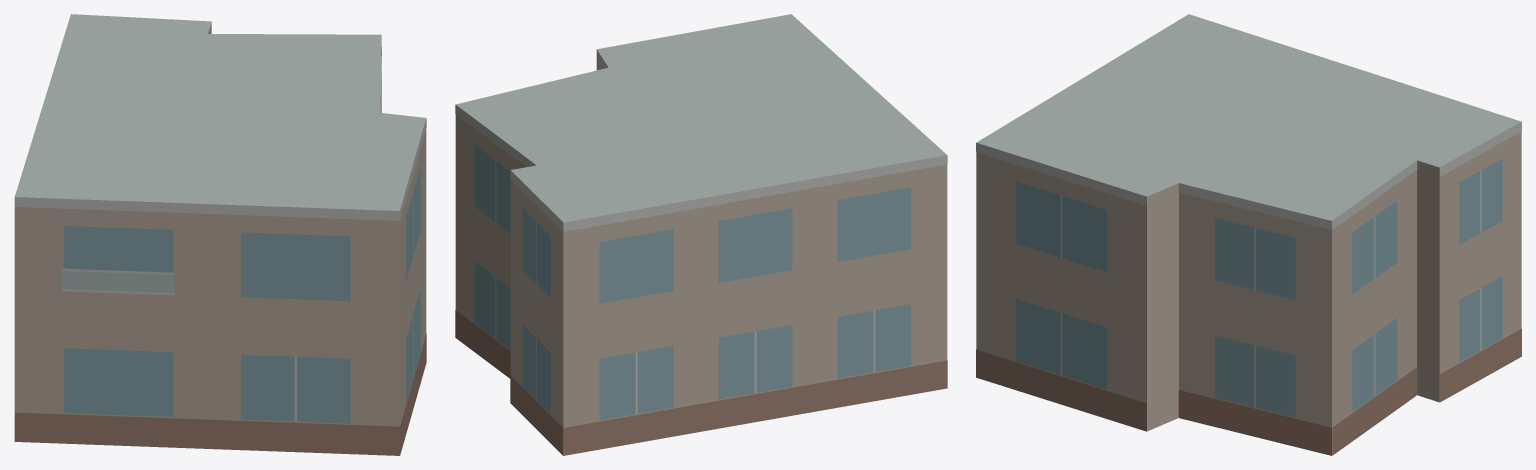
The model's file is survey-upis-32759244.glb.
3 renders of one model, left to right at view 1: azimuth 30°, elevation 25°; view 2: azimuth 150°, elevation 25°; view 3: azimuth 270°, elevation 25°, orthographic. The views are drawn at different scales.
Parts seen in each view (by area): view 1: survey-upis-32759244.tmp; view 2: survey-upis-32759244.tmp; view 3: survey-upis-32759244.tmp.
Boxes of the visible parts, <box> form: survey-upis-32759244.tmp: <box>14,14,426,455</box>; survey-upis-32759244.tmp: <box>455,14,947,455</box>; survey-upis-32759244.tmp: <box>976,14,1521,455</box>.
Bounding box in the file's own units: 11.53 × 6.1 × 12.85.
